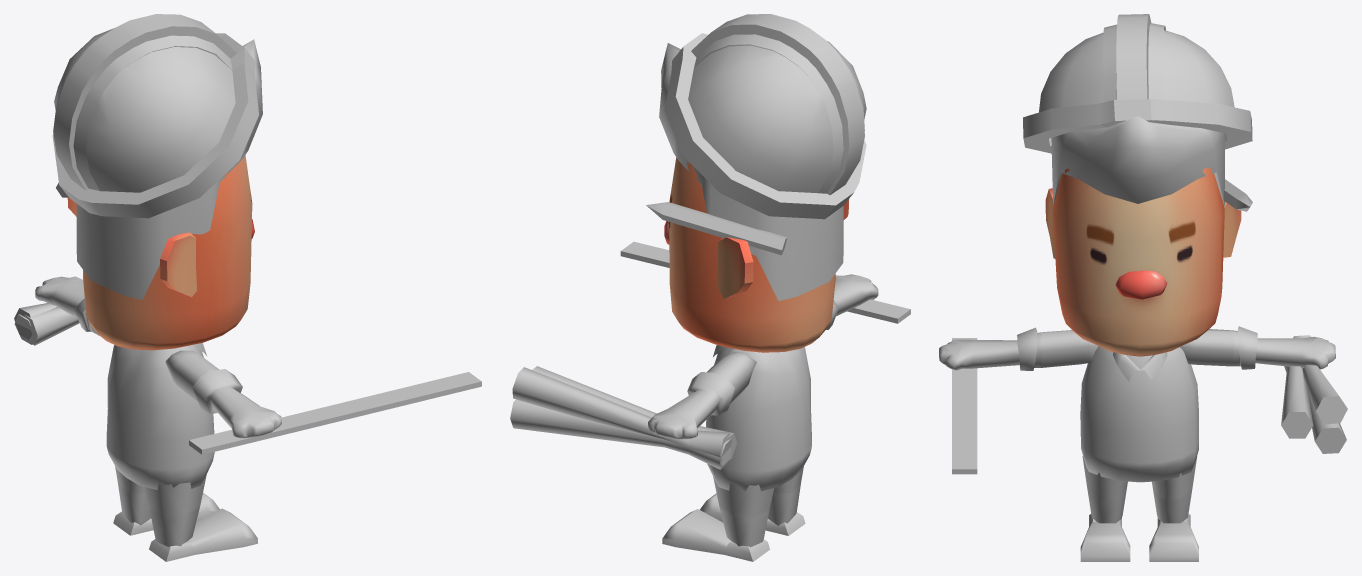
Rendered from Char_Man_Arc_04.fbx.
The picture shows the model from 3 angles, left to right: view 1: azimuth 30°, elevation 25°; view 2: azimuth 150°, elevation 25°; view 3: azimuth 270°, elevation 25°; orthographic projection. The views are drawn at different scales.
Visible parts, largest first — view 1: Hat_Architect, Head_Architect, Body_Architect, Hair_Architect, R_Leg_Architect, Ruler_Architect, R_Arm_Architect, L_Leg_Architect, R_Ear_Architect, Papers_Architect, L_Arm_Architect; view 2: Hat_Architect, Head_Architect, Body_Architect, Papers_Architect, Hair_Architect, L_Leg_Architect, L_Arm_Architect, Pencil_Architect, R_Leg_Architect, L_Ear_Architect, Ruler_Architect, R_Arm_Architect; view 3: Head_Architect, Hat_Architect, Body_Architect, Hair_Architect, R_Arm_Architect, L_Arm_Architect, Papers_Architect, R_Leg_Architect, L_Leg_Architect, Ruler_Architect, Nose_Architect, Collar_Architect (+2 smaller).
Boxes of the visible parts, left/top/right/bottom form: Hat_Architect: left=52, top=14, right=258, bottom=218; Head_Architect: left=83, top=155, right=252, bottom=350; Body_Architect: left=106, top=344, right=214, bottom=489; Hair_Architect: left=76, top=39, right=262, bottom=299; R_Leg_Architect: left=144, top=474, right=257, bottom=561; Ruler_Architect: left=189, top=372, right=481, bottom=454; R_Arm_Architect: left=165, top=350, right=281, bottom=438; L_Leg_Architect: left=113, top=466, right=219, bottom=535; R_Ear_Architect: left=160, top=232, right=197, bottom=297; Papers_Architect: left=14, top=303, right=79, bottom=345; L_Arm_Architect: left=35, top=276, right=99, bottom=335; Hat_Architect: left=664, top=14, right=866, bottom=219; Head_Architect: left=669, top=157, right=835, bottom=352; Body_Architect: left=706, top=347, right=811, bottom=491; Papers_Architect: left=510, top=366, right=736, bottom=469; Hair_Architect: left=659, top=43, right=843, bottom=300; L_Leg_Architect: left=662, top=476, right=774, bottom=561; L_Arm_Architect: left=648, top=352, right=756, bottom=439; Pencil_Architect: left=646, top=202, right=787, bottom=255; R_Leg_Architect: left=700, top=466, right=805, bottom=535; L_Ear_Architect: left=717, top=237, right=753, bottom=298; Ruler_Architect: left=620, top=241, right=910, bottom=323; R_Arm_Architect: left=826, top=274, right=878, bottom=329; Head_Architect: left=1052, top=167, right=1224, bottom=356; Hat_Architect: left=1023, top=14, right=1252, bottom=153; Body_Architect: left=1080, top=346, right=1198, bottom=482; Hair_Architect: left=1051, top=116, right=1224, bottom=206; R_Arm_Architect: left=939, top=327, right=1098, bottom=370; L_Arm_Architect: left=1180, top=326, right=1335, bottom=369; Papers_Architect: left=1281, top=335, right=1347, bottom=453; R_Leg_Architect: left=1080, top=456, right=1130, bottom=561; L_Leg_Architect: left=1149, top=456, right=1198, bottom=561; Ruler_Architect: left=952, top=338, right=977, bottom=474; Nose_Architect: left=1115, top=270, right=1167, bottom=299; Collar_Architect: left=1113, top=352, right=1167, bottom=381.
Size of the model in its own units: 6.01 by 9.25 by 6.84.
